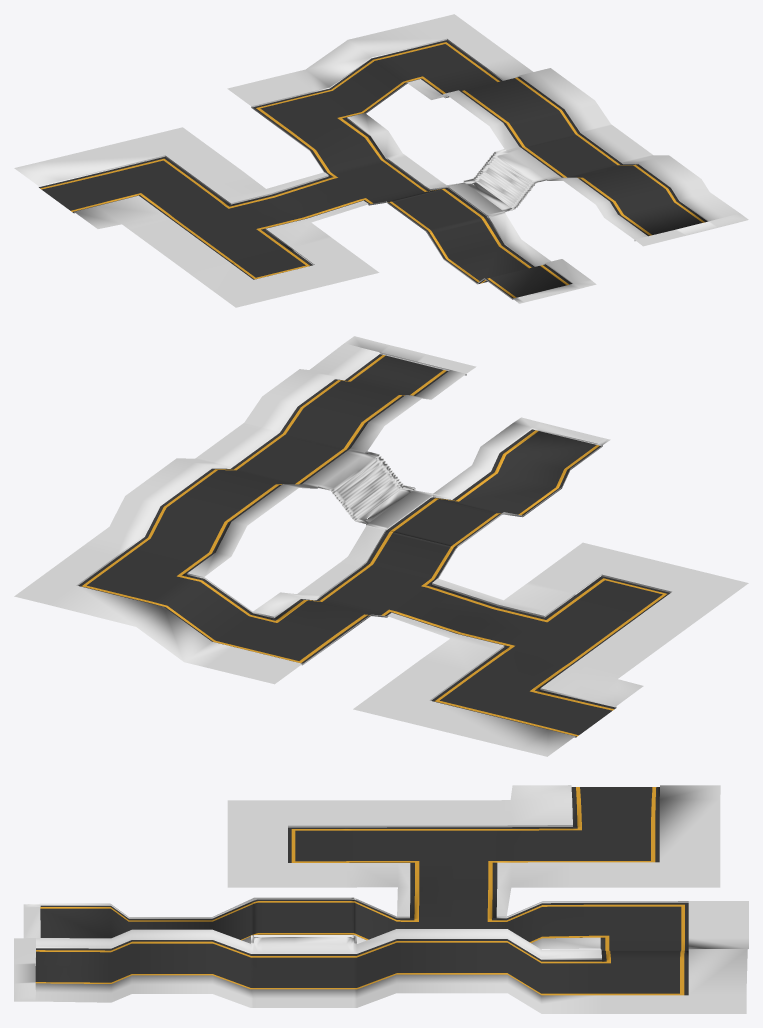
The model's file is fase2 separada teste.fbx.
3 views of the same model, one above another, from view 1: azimuth 30°, elevation 25°; view 2: azimuth 150°, elevation 25°; view 3: azimuth 270°, elevation 25° (orthographic). The views are drawn at different scales.
Visible parts, largest first — view 1: Plane.005; view 2: Plane.005; view 3: Plane.005.
Part boxes in pixels (x1=…): Plane.005: x1=14, y1=14, x2=748, y2=307; Plane.005: x1=14, y1=336, x2=748, y2=756; Plane.005: x1=14, y1=785, x2=748, y2=1013.
Bounding box in the file's own units: 896 × 104 × 1017.
